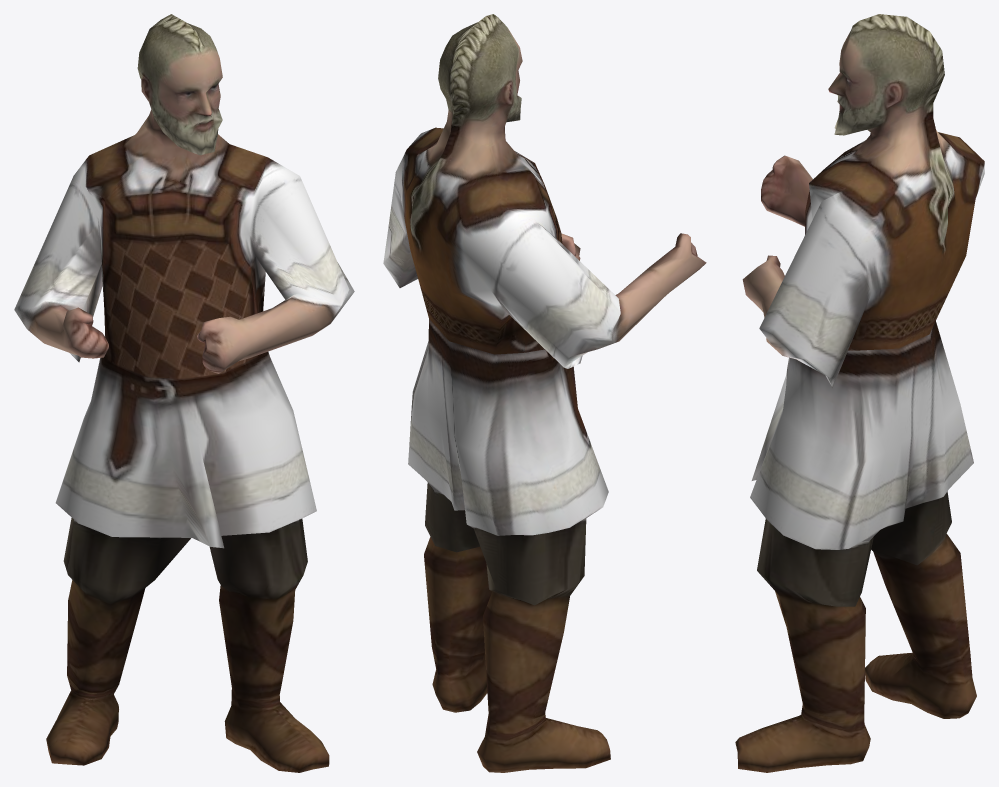
The model's file is body-base.glb.
The picture shows the model from 3 angles, left to right: view 1: azimuth 30°, elevation 25°; view 2: azimuth 150°, elevation 25°; view 3: azimuth 270°, elevation 25°; orthographic projection.
Bounding box in the file's own units: 0.9312 × 2.1 × 0.6578.
1 material, 1 textured.
